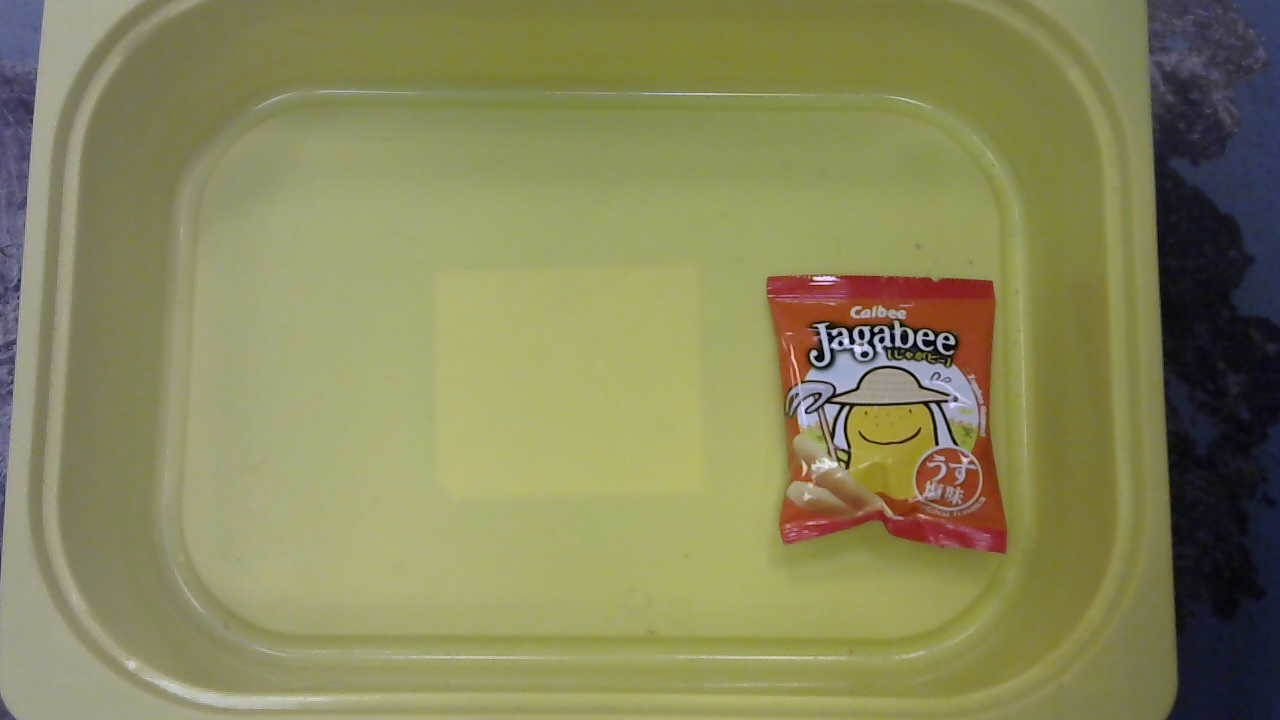JagabeeFarmer: (758, 267, 1022, 563)
